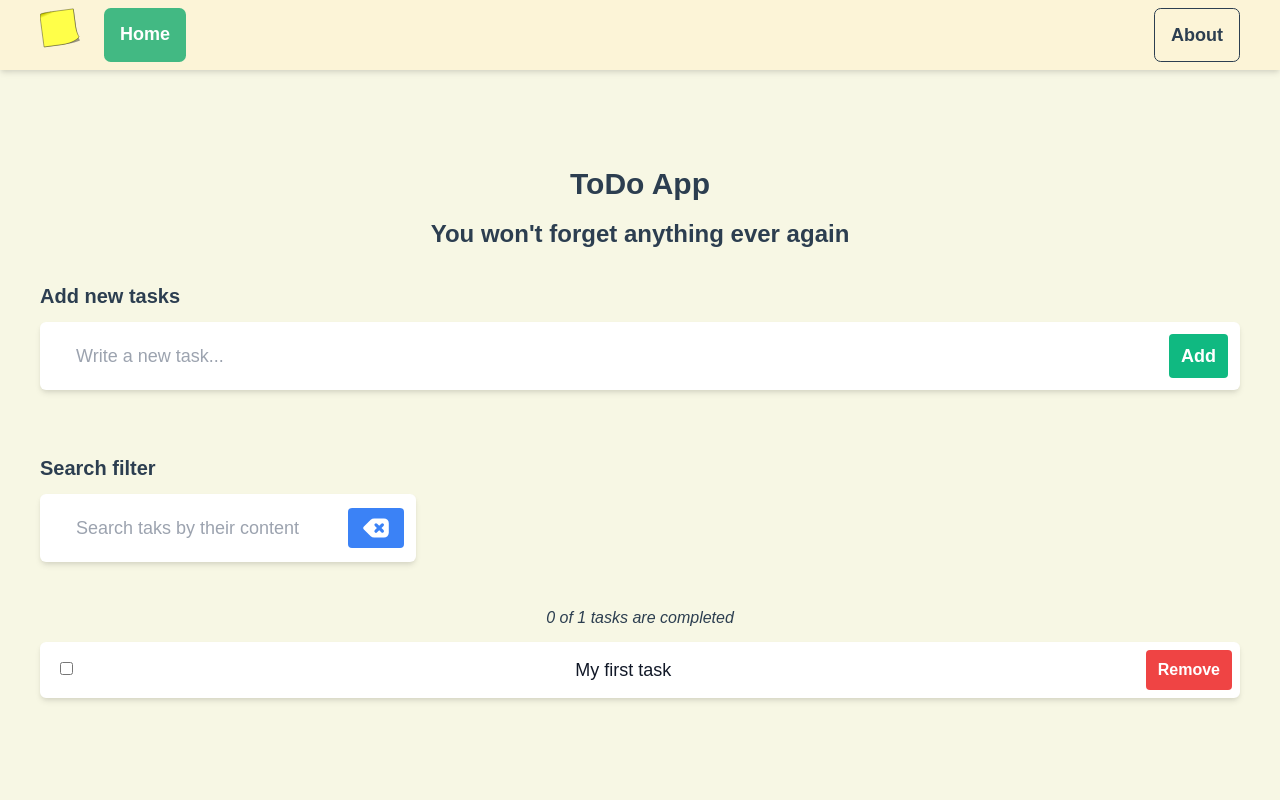
Scenario: task list › can edit a task's text
Click the heading "My first task".
click(623, 670)  # box [575,660,671,680]
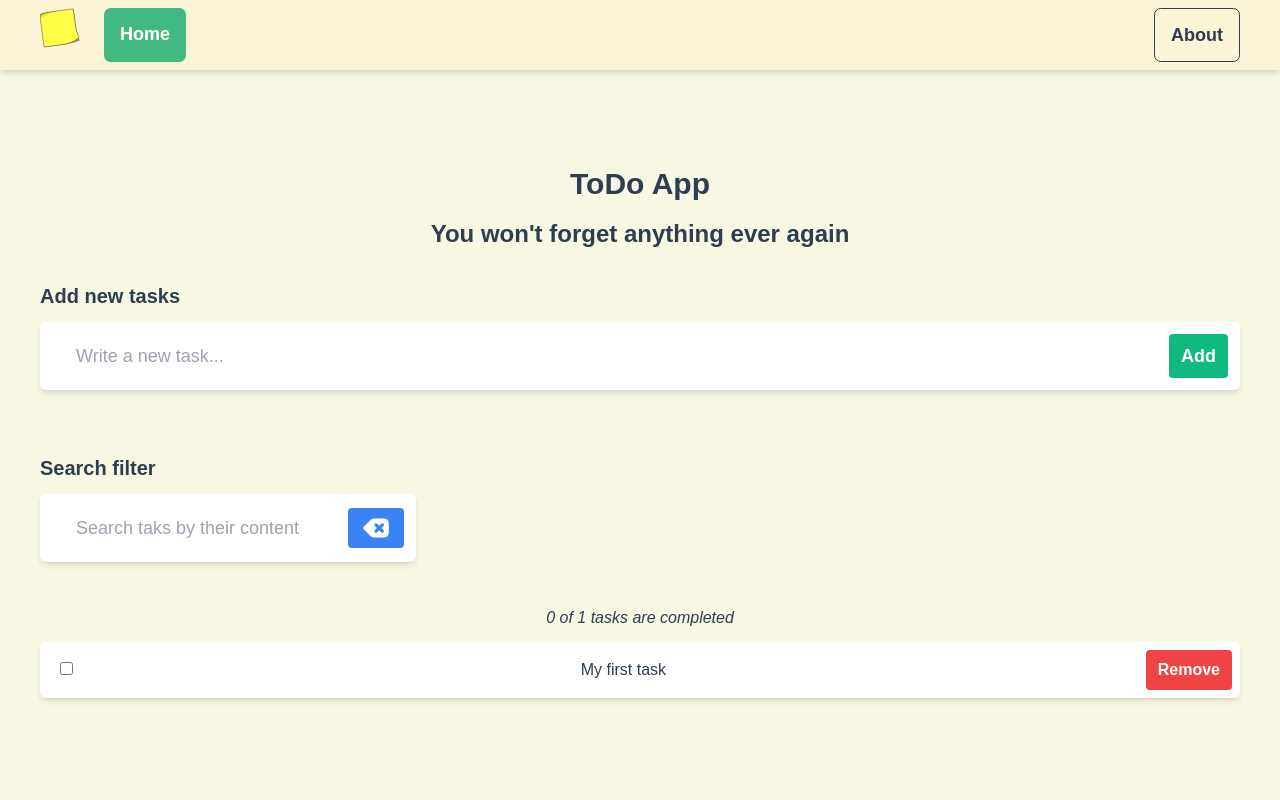
Type "My first task text edited" into the 3rd field.
click(624, 670); type("My first task text edited")  # box [101,658,1146,682]
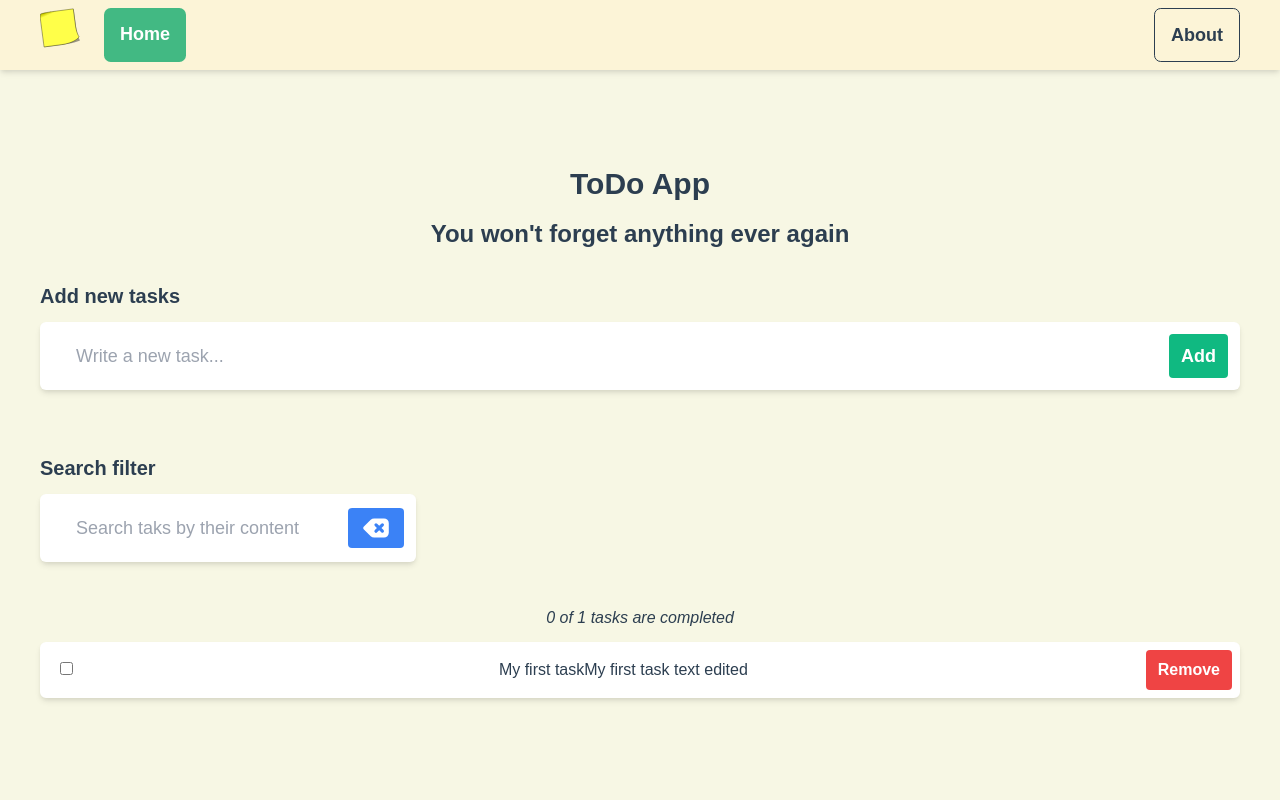
Type "Cypress.io" into the 3rd field.
click(624, 670); type("Cypress.io")  # box [101,658,1146,682]
Then press Enter
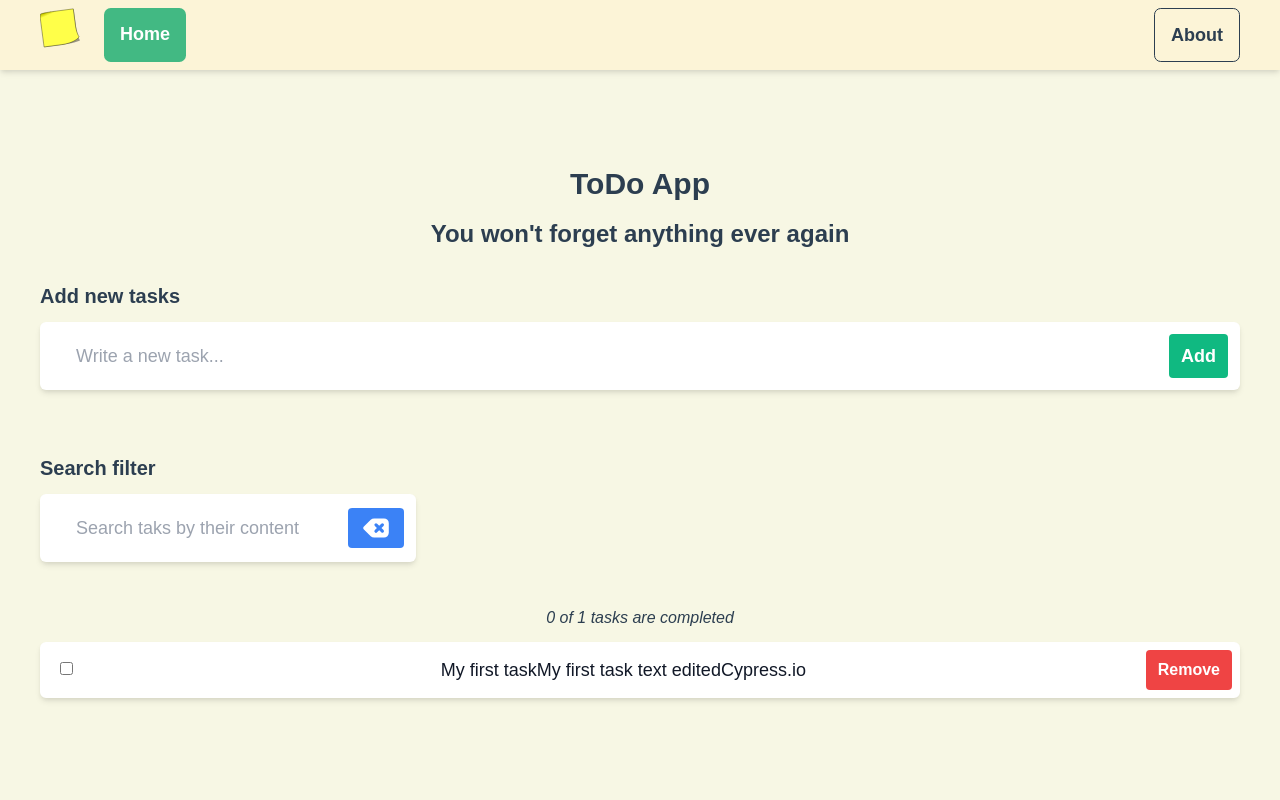
Expected: the heading "My first task text edited" is shown, [441,660,806,680]
